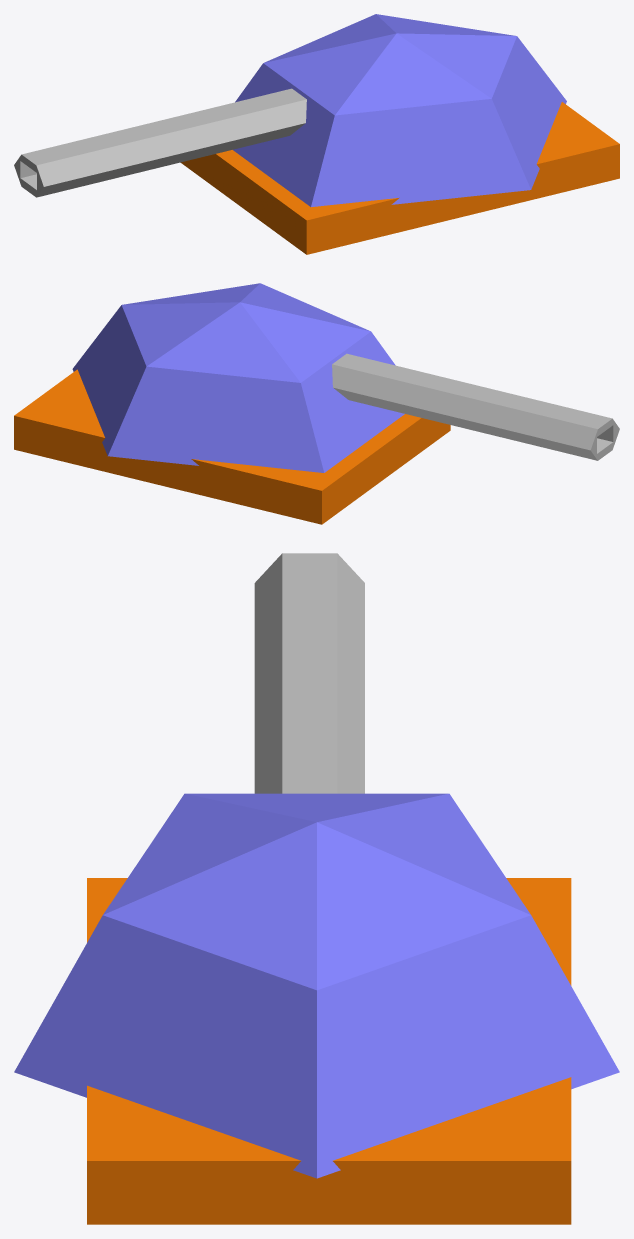
The model's file is laser_turretA.fbx.
3 views of the same model, one above another, from view 1: azimuth 30°, elevation 25°; view 2: azimuth 150°, elevation 25°; view 3: azimuth 270°, elevation 25° (orthographic). The views are drawn at different scales.
Visible parts, largest first — view 1: Empty_Mesh_1, Empty_Mesh, Empty_Mesh_2; view 2: Empty_Mesh_1, Empty_Mesh, Empty_Mesh_2; view 3: Empty_Mesh_1, Empty_Mesh, Empty_Mesh_2.
Part boxes in pixels (bbox=[...]): Empty_Mesh_1: bbox=[233, 14, 566, 207]; Empty_Mesh: bbox=[180, 102, 619, 254]; Empty_Mesh_2: bbox=[14, 88, 306, 197]; Empty_Mesh_1: bbox=[72, 283, 404, 472]; Empty_Mesh: bbox=[14, 369, 450, 524]; Empty_Mesh_2: bbox=[332, 353, 619, 460]; Empty_Mesh_1: bbox=[14, 793, 619, 1178]; Empty_Mesh: bbox=[87, 878, 571, 1224]; Empty_Mesh_2: bbox=[254, 553, 364, 793].
Size of the model in its own units: 442 by 109 by 232.
